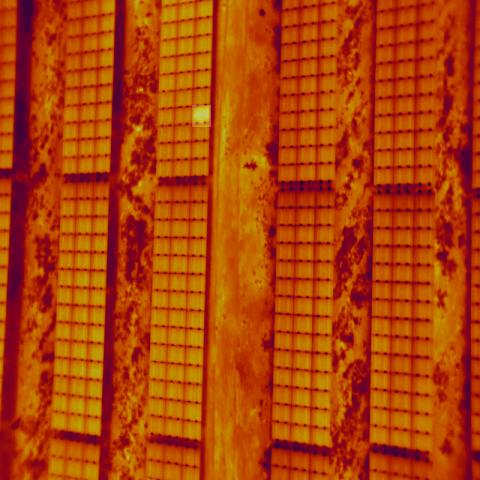fault: (192, 105, 211, 127)
